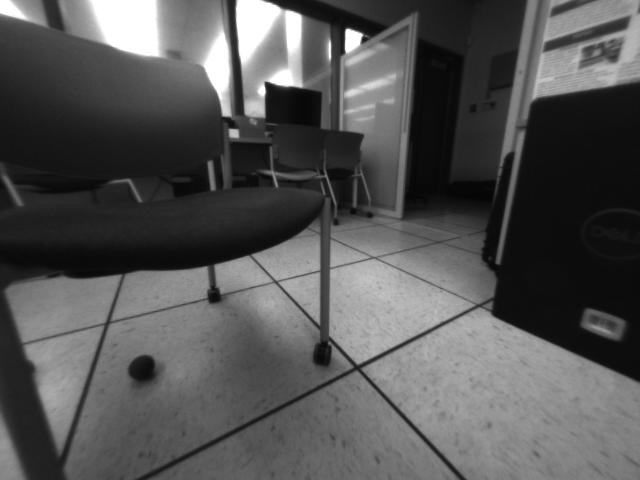dogtoy: (122, 347, 163, 389)
